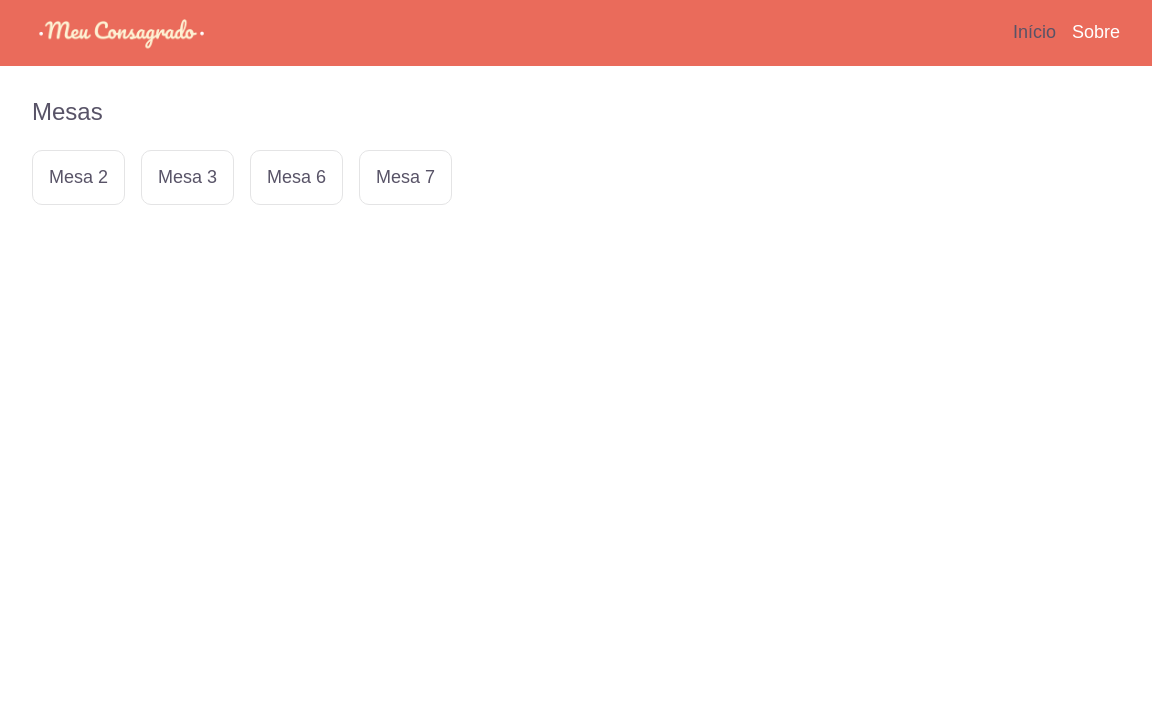
Home Tests › should be able to click on a table and go to table page
The image size is (1152, 720).
Check: the element with test id "home" is shown, box [32,98,452,205]
Click the link "Mesa 2".
click(79, 178)  # box [32,150,125,205]
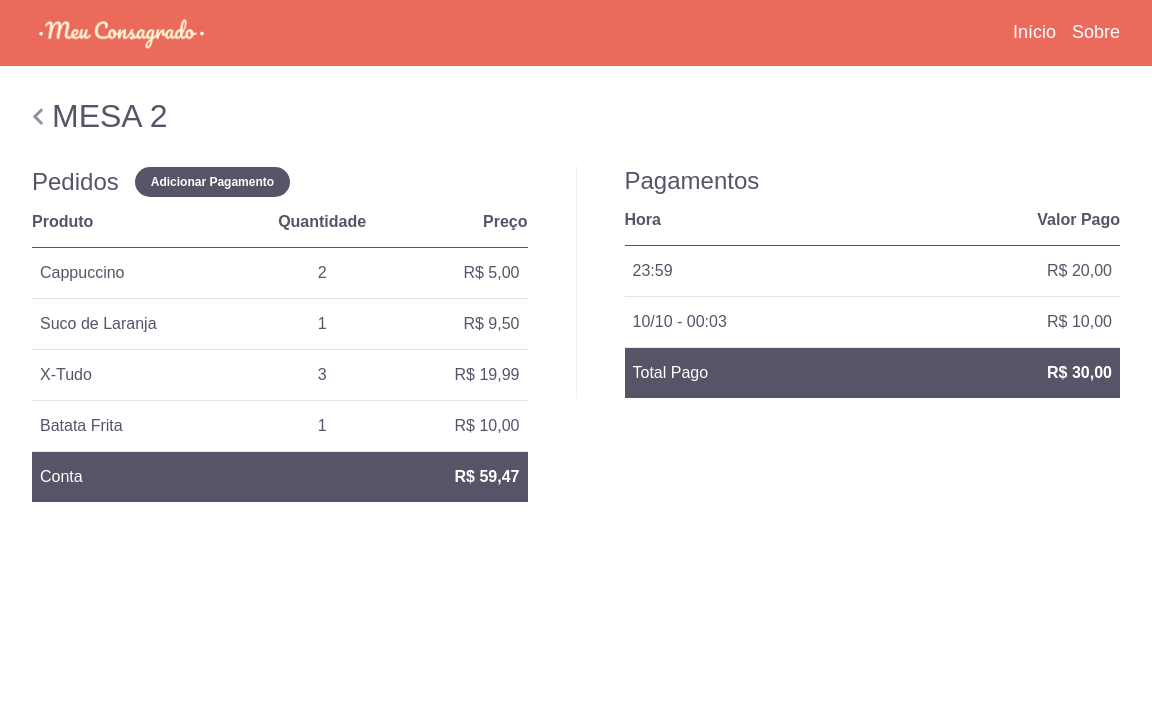
Check: the element with test id "table-page" is shown, box [32,98,1120,502]
